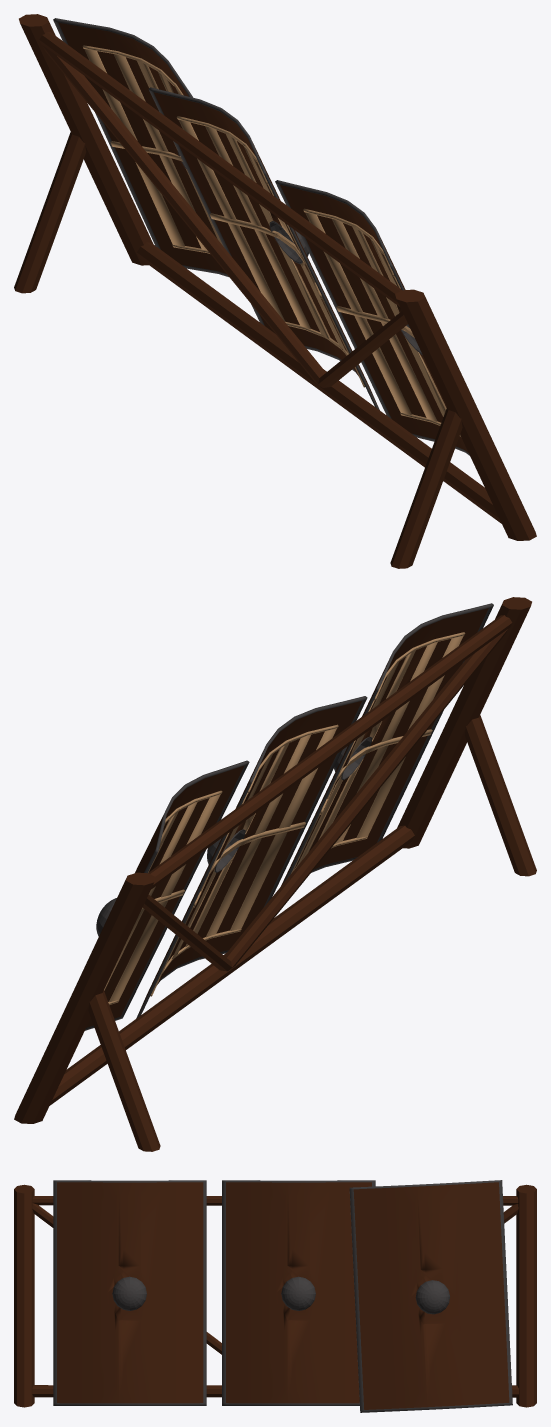
The model's file is Scutum Ständer Ver 3.fbx.
The picture shows the model from 3 angles, top to bottom: view 1: azimuth 30°, elevation 25°; view 2: azimuth 150°, elevation 25°; view 3: azimuth 270°, elevation 25°; orthographic projection. The views are drawn at different scales.
Parts seen in each view (by area): view 1: Scutum Ständer Ver 3; view 2: Scutum Ständer Ver 3; view 3: Scutum Ständer Ver 3.
Part boxes in pixels (left/top/right/bottom): Scutum Ständer Ver 3: left=14, top=14, right=536, bottom=568; Scutum Ständer Ver 3: left=14, top=597, right=536, bottom=1151; Scutum Ständer Ver 3: left=14, top=1180, right=536, bottom=1412.
Size of the model in its own units: 61.53 by 97.83 by 239.
